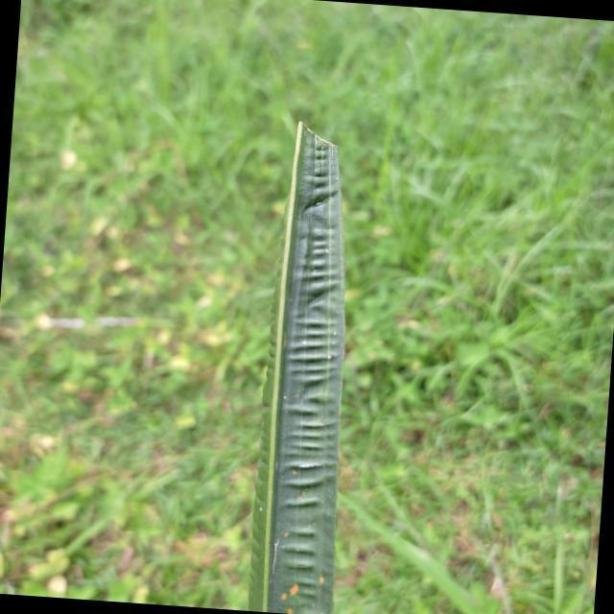Boron: (246, 105, 350, 614)
